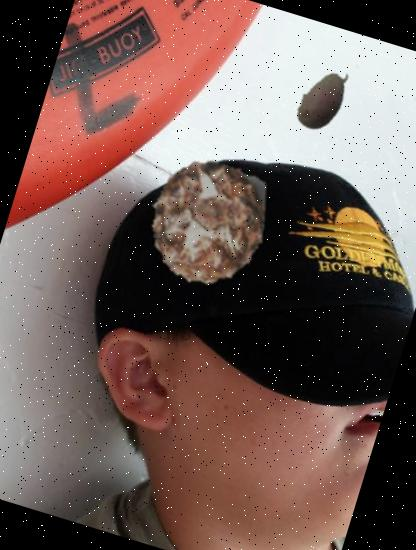Pineapple: (130, 143, 288, 302)
Potato: (280, 55, 368, 142)
